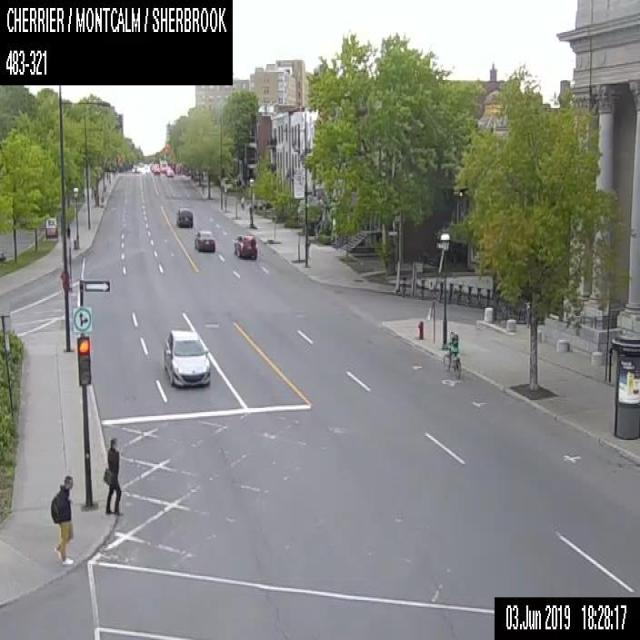bus: (159, 159, 166, 171)
cyclist: (442, 330, 460, 376)
pedestrian: (50, 472, 74, 565), (102, 436, 124, 515)
vehicle: (162, 328, 211, 385), (233, 233, 257, 258), (194, 229, 214, 251), (175, 208, 192, 226), (130, 163, 138, 172), (166, 168, 173, 176), (153, 166, 159, 173)
